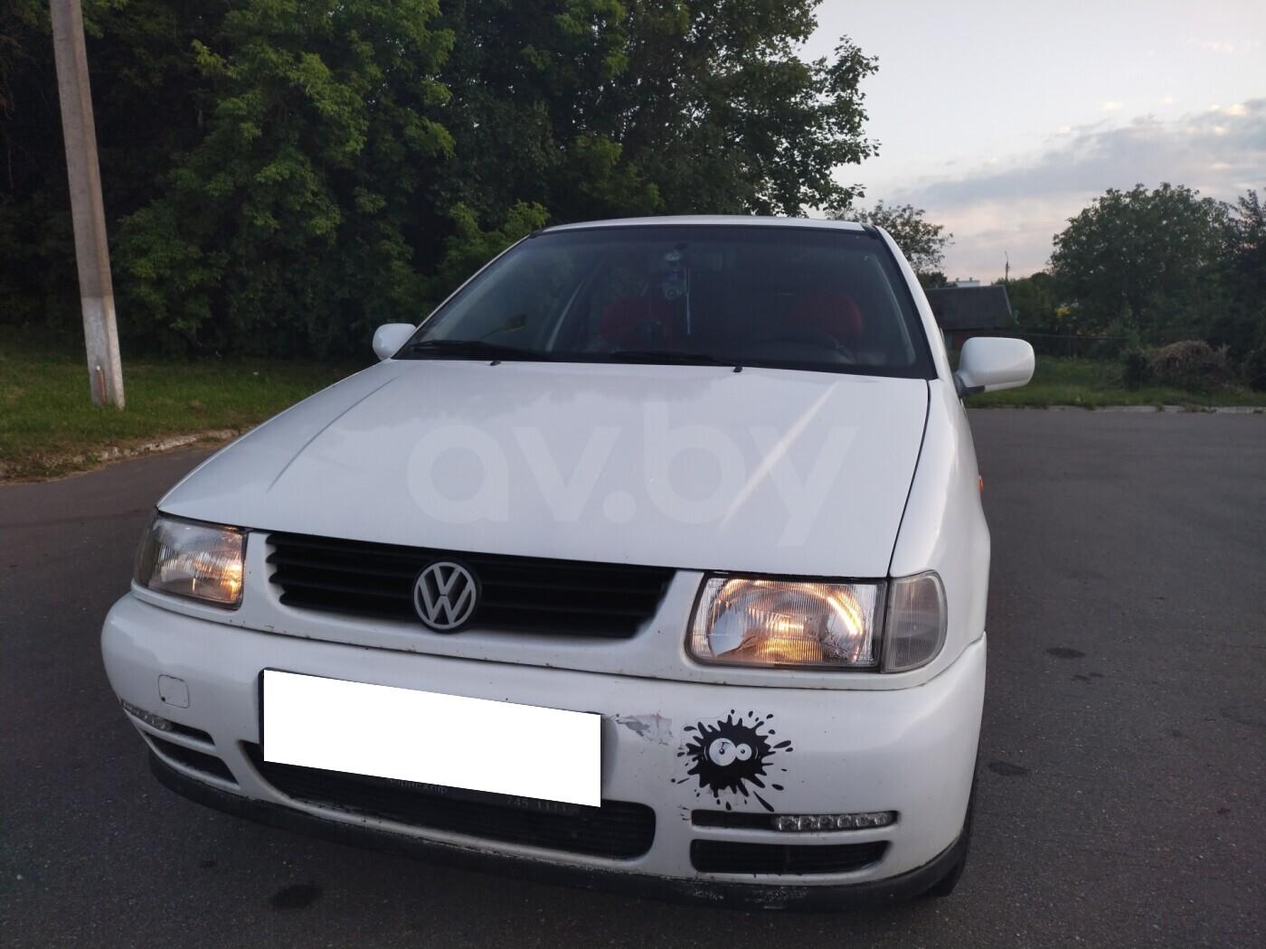Polo_1994-2002: (107, 203, 1028, 903)
